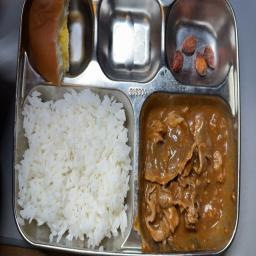100_beef: (138, 96, 226, 243)
100_rice: (21, 85, 126, 245)
25_nuts: (168, 2, 225, 84)
50_bread: (26, 0, 86, 81)
empty: (100, 4, 160, 82)
